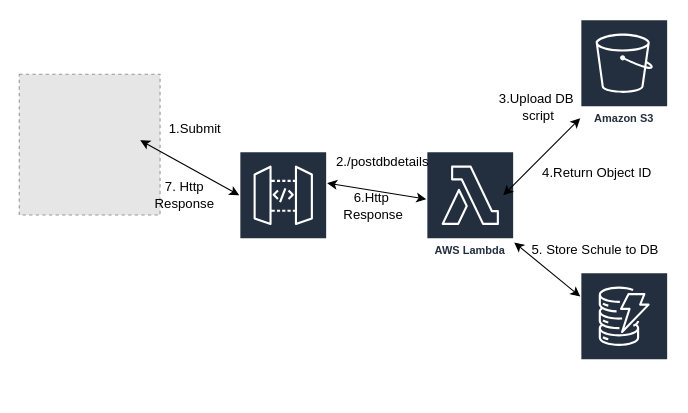
Image size: 688x413. Some labels were removed from this diagram. Grey dashed boxes stand in for pictures. Here are the shapes that lost their labels. From the top down, the centre of each, then its label:
At [282,211]: "Amazon API Gateway".
At [623,332]: "Amazon DynamoDB".
